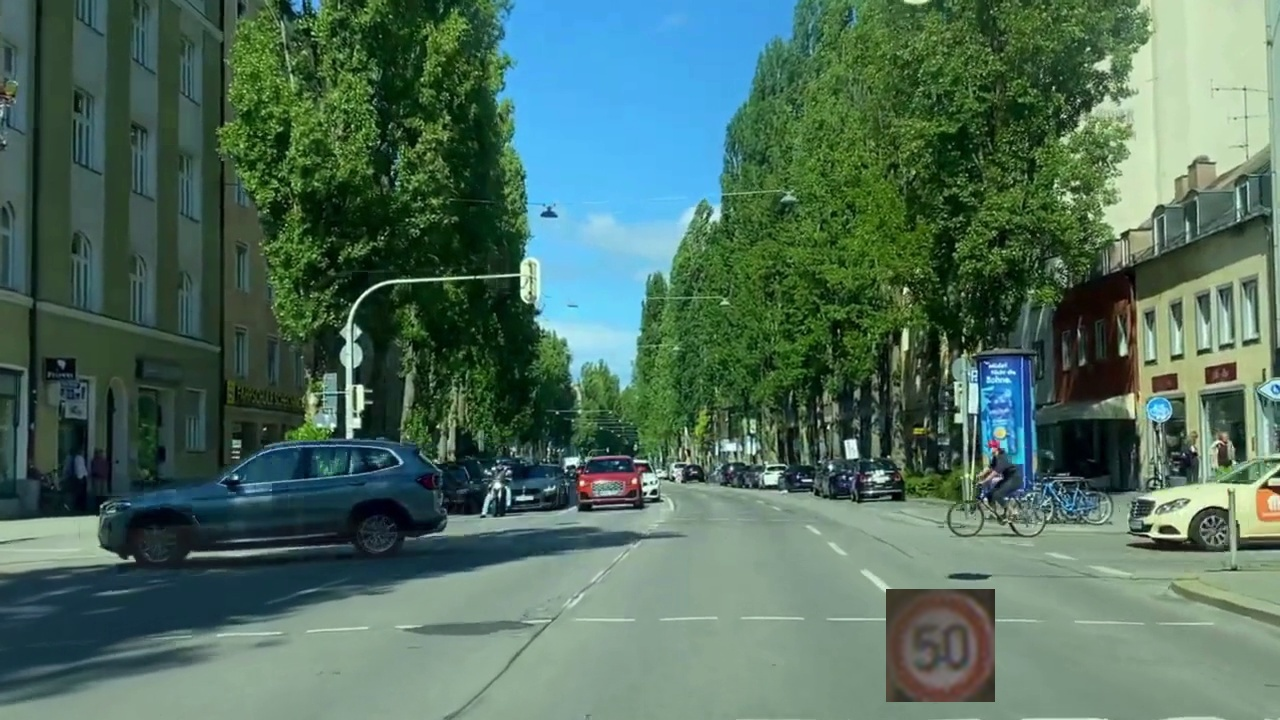Speed 50: (886, 589, 995, 702)
